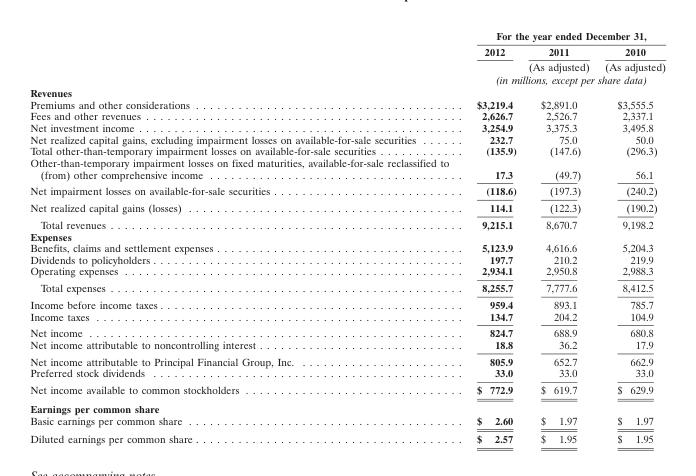table: (29, 29, 665, 445)
table column: (29, 29, 462, 445), (522, 29, 596, 445), (596, 29, 665, 445), (462, 29, 522, 445)
table column header: (29, 29, 665, 85)
table projected row header: (29, 399, 665, 414), (29, 85, 665, 98), (29, 230, 665, 241)
table row: (29, 43, 665, 73), (29, 156, 665, 182), (29, 381, 665, 399), (29, 182, 665, 199), (29, 199, 665, 215), (29, 279, 665, 295), (29, 429, 665, 445), (29, 215, 665, 230), (29, 264, 665, 279), (29, 295, 665, 310), (29, 352, 665, 367), (29, 399, 665, 414), (29, 414, 665, 429), (29, 29, 665, 43), (29, 310, 665, 324), (29, 324, 665, 338), (29, 338, 665, 352), (29, 367, 665, 381), (29, 85, 665, 98), (29, 73, 665, 85), (29, 109, 665, 121), (29, 121, 665, 133), (29, 144, 665, 156), (29, 241, 665, 253), (29, 98, 665, 109), (29, 133, 665, 144), (29, 230, 665, 241), (29, 253, 665, 264)
table spanning cell: (462, 29, 665, 43), (462, 73, 665, 85)
